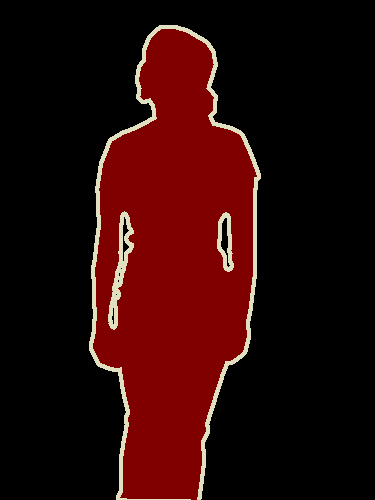person: (84, 17, 270, 500)
person/hand: (218, 317, 250, 364), (91, 325, 119, 370)
person/head: (137, 28, 216, 102)
